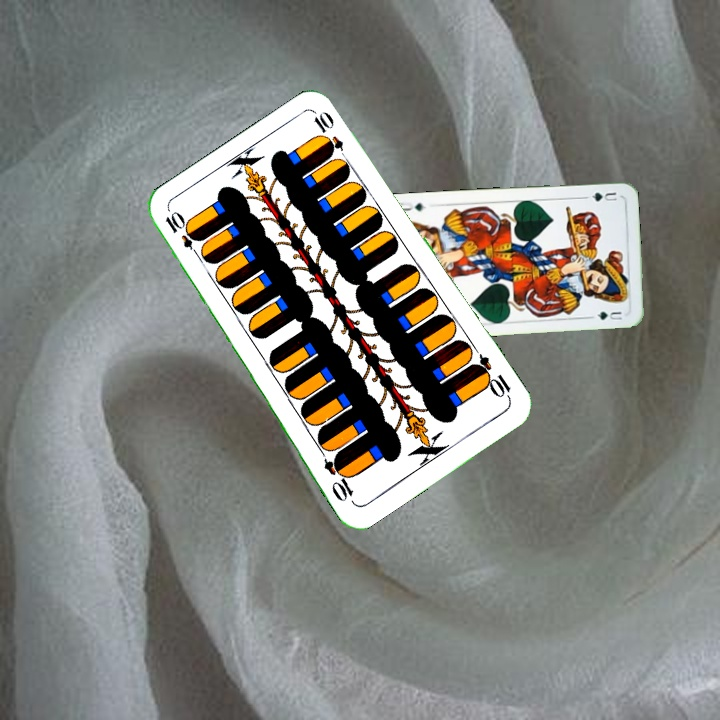E10: (468, 351, 514, 403), (161, 208, 205, 261)
GU: (581, 188, 619, 204)
